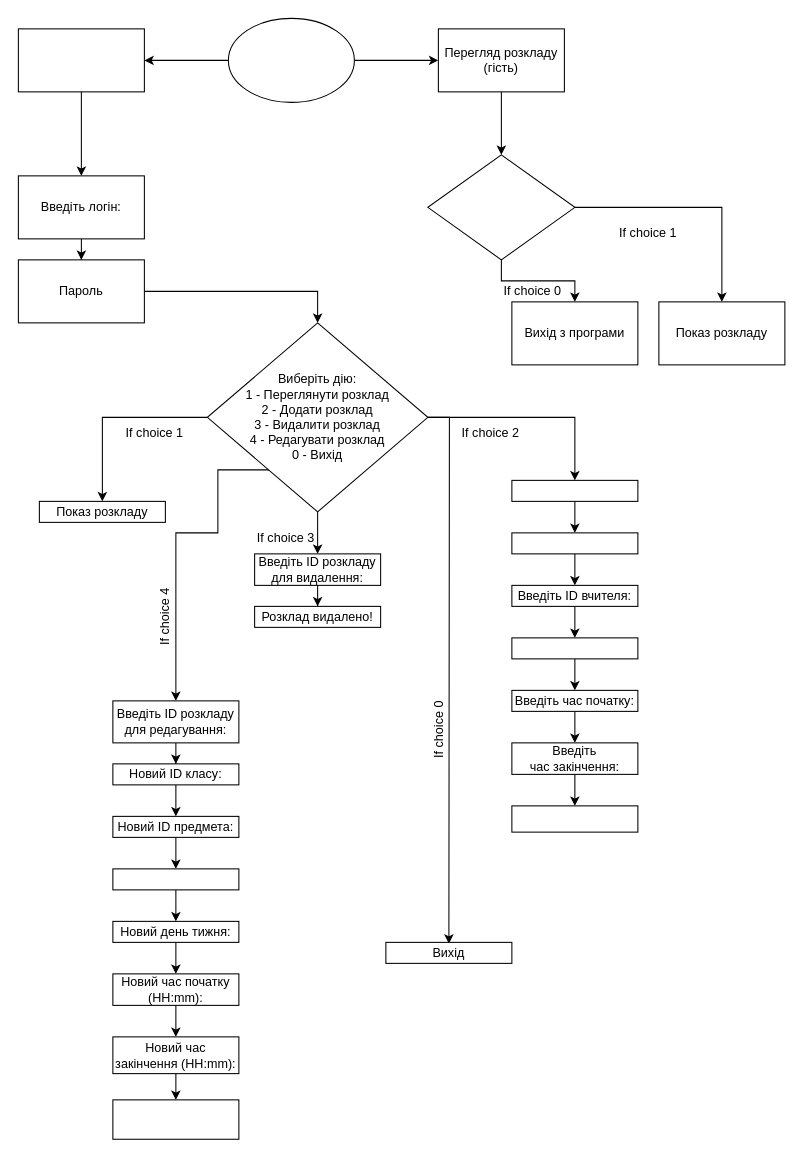
Some shapes in this 803 by 1158 pixel diagram are drawn without their labels. Here are the shapes that lost their labels. From the top down, the centre of each, then its label:
At (80,60): "Вхід від адміністрації".
At (290,59): "Початок".
At (501,207): "Виберіть дію: 1 - Переглянути розклад 0 - Вихід".
At (574,490): "Введіть ID класу:".
At (574,543): "Введіть ID предмета:".
At (574,648): "Введіть день неділі:".
At (574,818): "Розклад додано!".
At (175,879): "Новий ID вчителя:".
At (175,1119): "Розклад успішно оновлено!".
